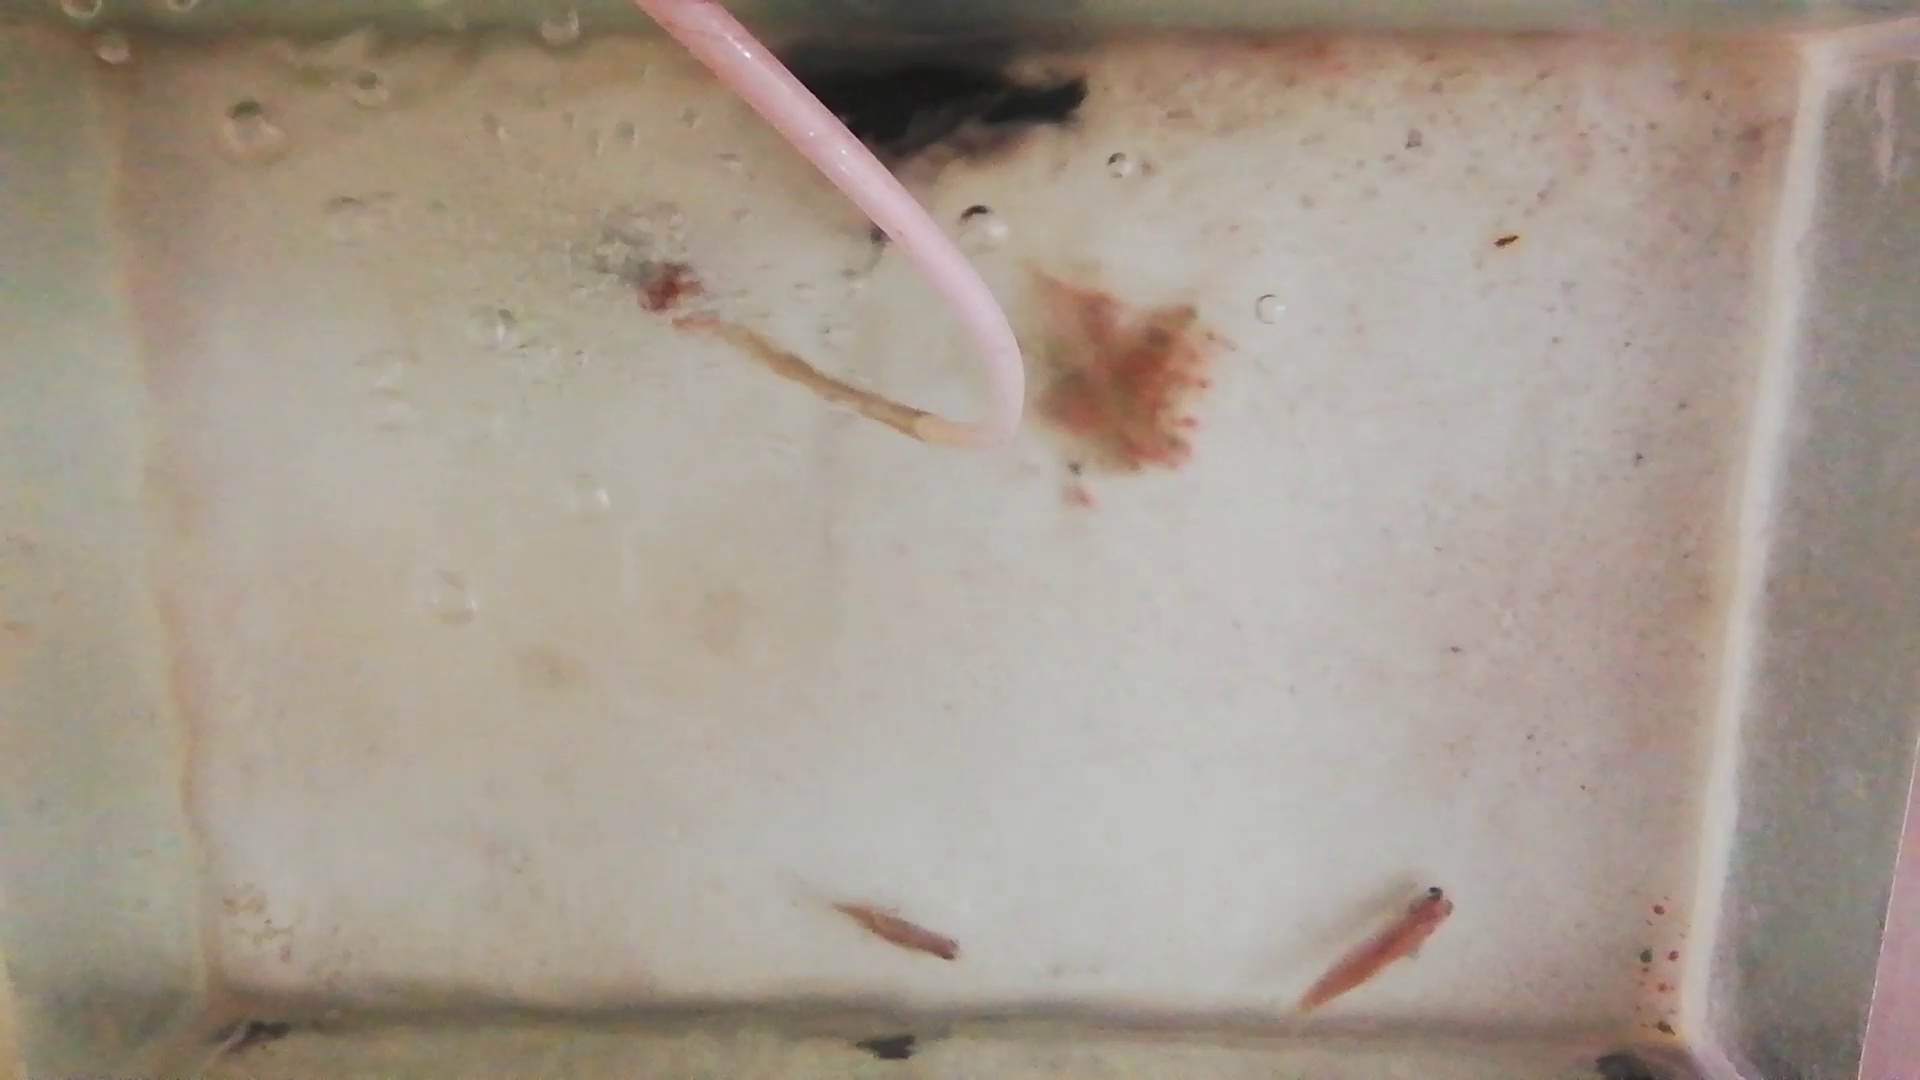fish: (1299, 887, 1460, 1010), (833, 899, 961, 963)
